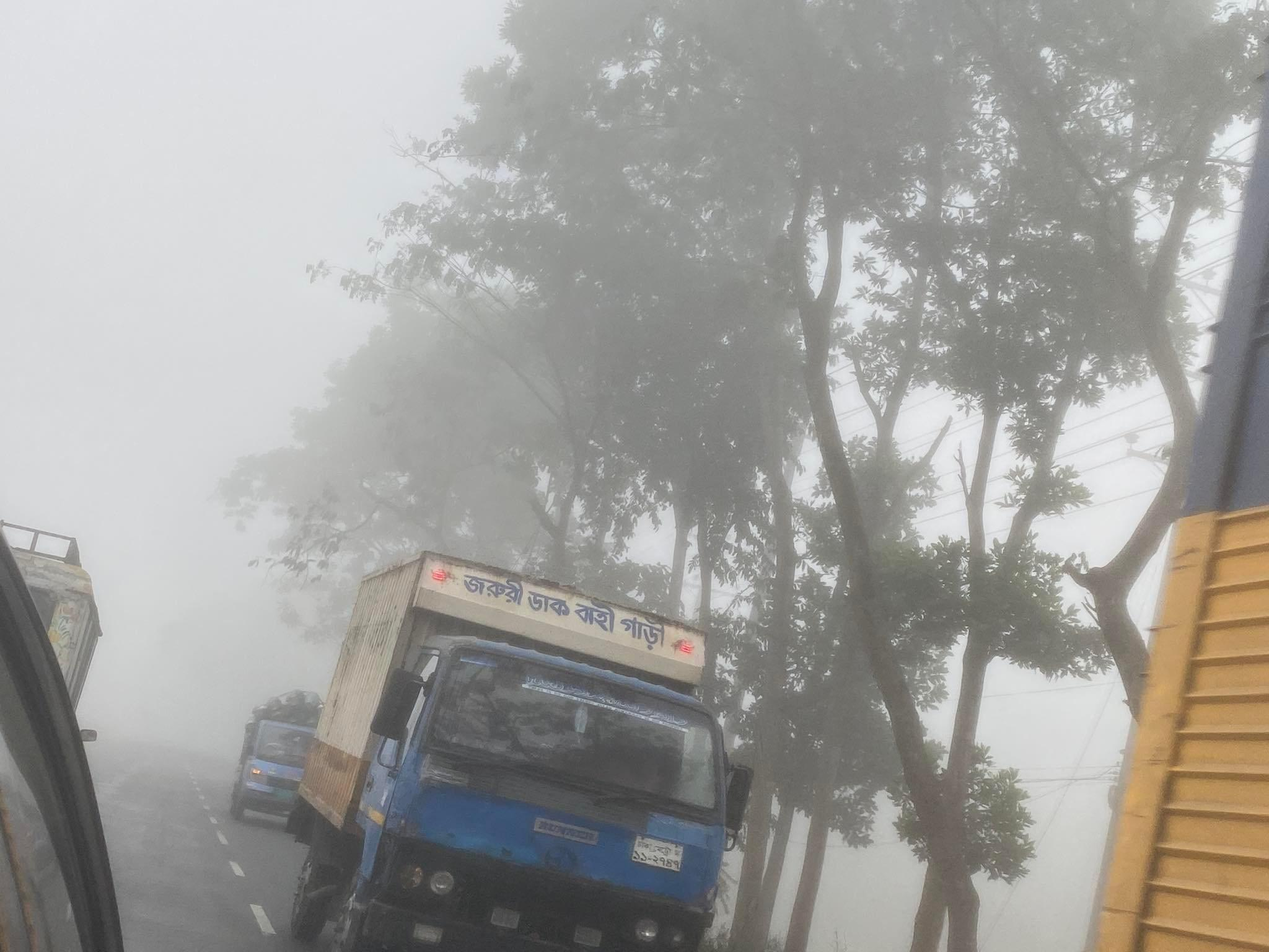Truck: (288, 532, 761, 944), (231, 672, 326, 837)
